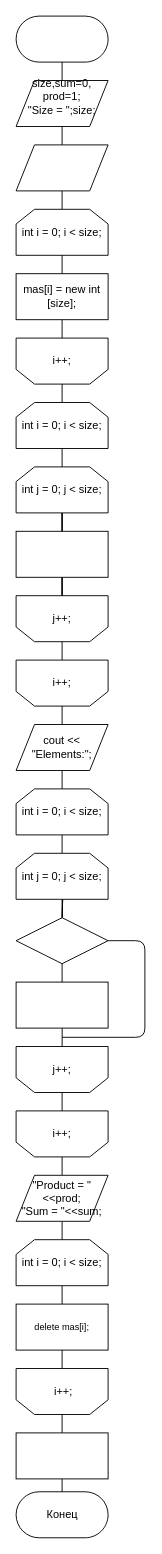
Image size: 162x1554. Some labels were removed from this diagram. Here are the shapes that lost their labels. From the top down, the centre of each, then its label:
At pixel 61 38: "Начало".
At pixel 61 167: "int **mas = new int *[size];".
At pixel 61 553: "mas[i][j] = rand()%201-100;".
At pixel 61 940: "j>i && j<size-1-i || j>size-1-i && j<i".
At pixel 61 1004: "sum += mas[i][j]; prod *= mas[i][j];".
At pixel 61 1455: "delete []mas;".
